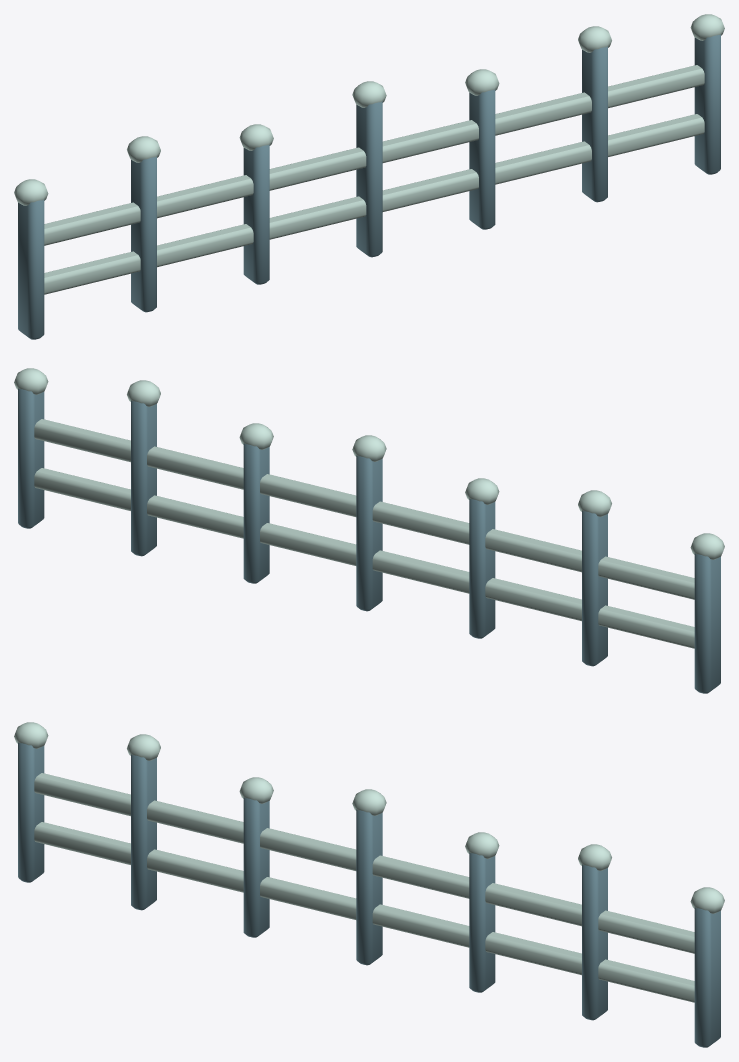
Rendered from fence_1.glb.
3 views of the same model, one above another, from view 1: azimuth 30°, elevation 25°; view 2: azimuth 150°, elevation 25°; view 3: azimuth 330°, elevation 25° (orthographic).
Visible parts, largest first — view 1: Fence; view 2: Fence; view 3: Fence.
Part boxes in pixels (x1=…): Fence: x1=14, y1=14, x2=724, y2=339; Fence: x1=14, y1=368, x2=724, y2=693; Fence: x1=14, y1=722, x2=724, y2=1047.
Size of the model in its own units: 5.75 by 1.31 by 0.22.
